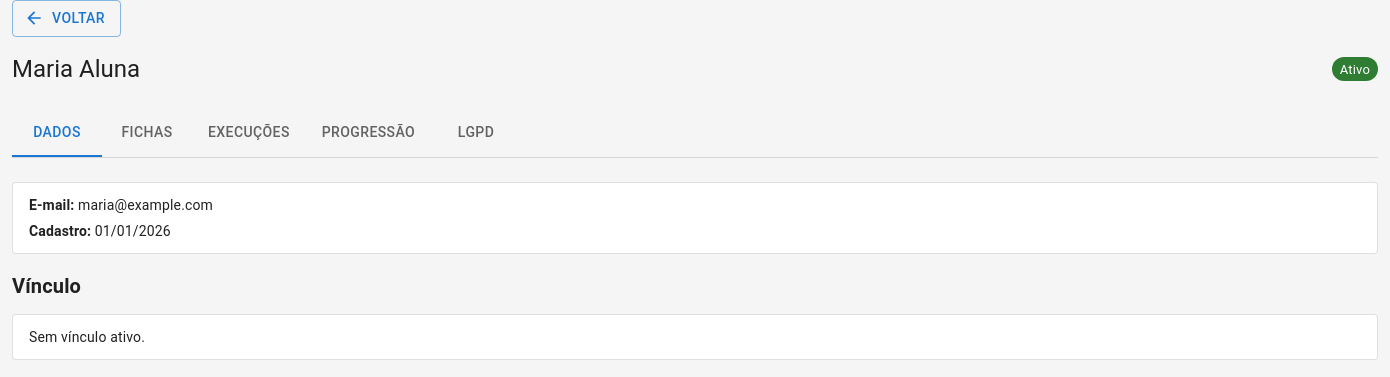
Test: DetalheAlunoAdminPage — abas Fichas e Execuções › aba Fichas lista as fichas vinculadas ao trocar de aba
Click the tab "Fichas". click: (147, 132)
box: [102, 108, 192, 156]
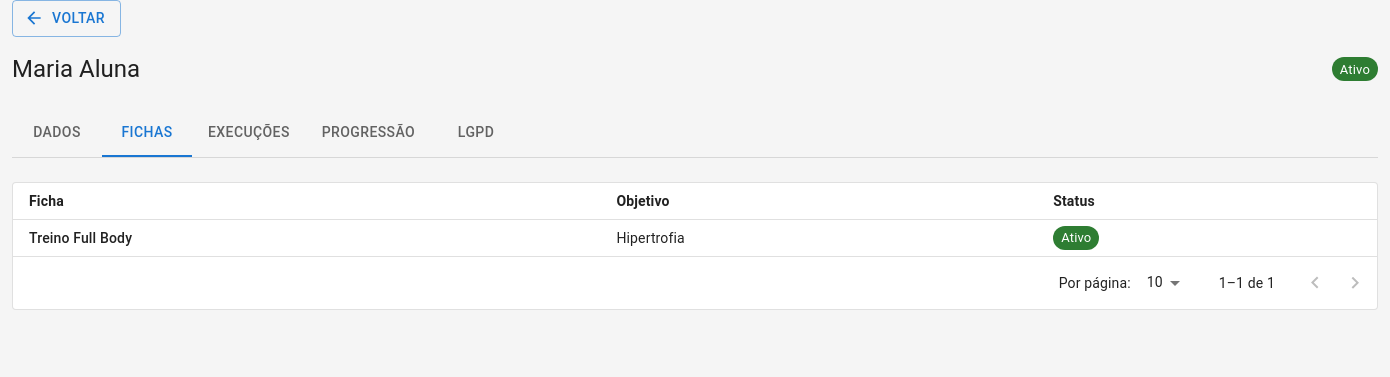
Now the text "Treino Full Body" is shown, box [29, 230, 132, 246]
